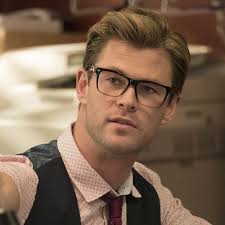Glasses: (83, 59, 174, 111)
